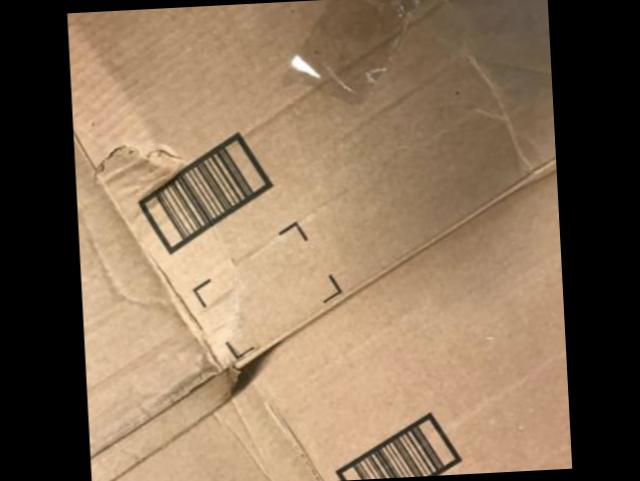cardboard paper: (67, 0, 573, 481)
